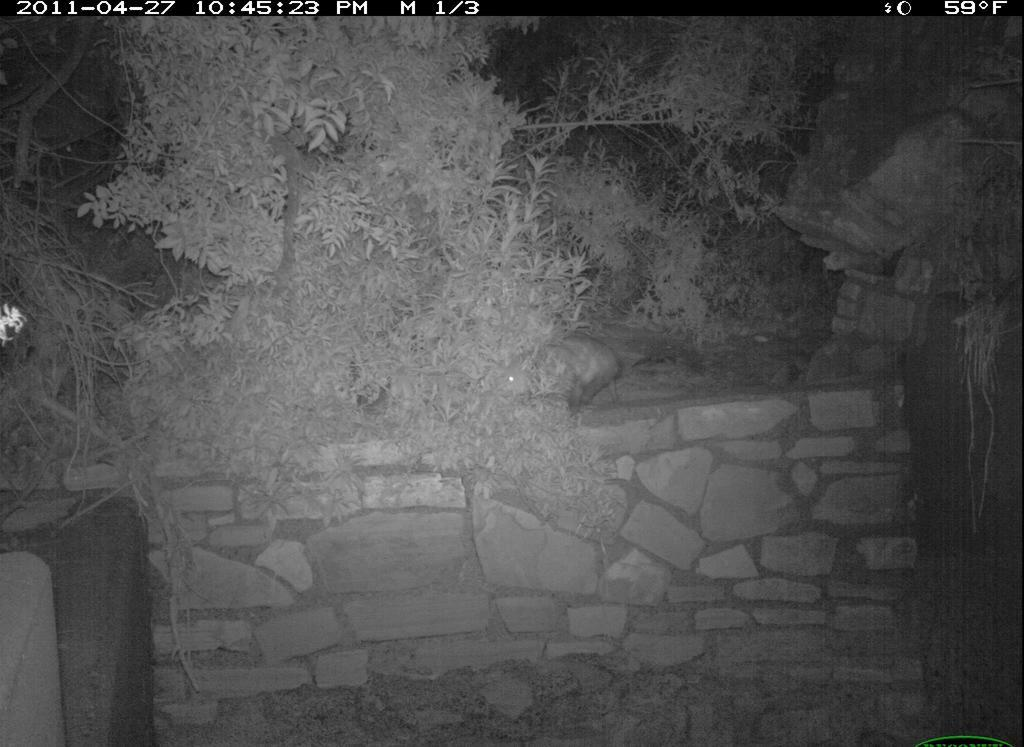opossum: (488, 329, 634, 411)
